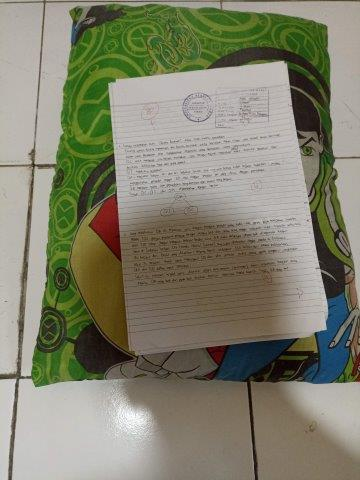kertas: (108, 61, 328, 356)
